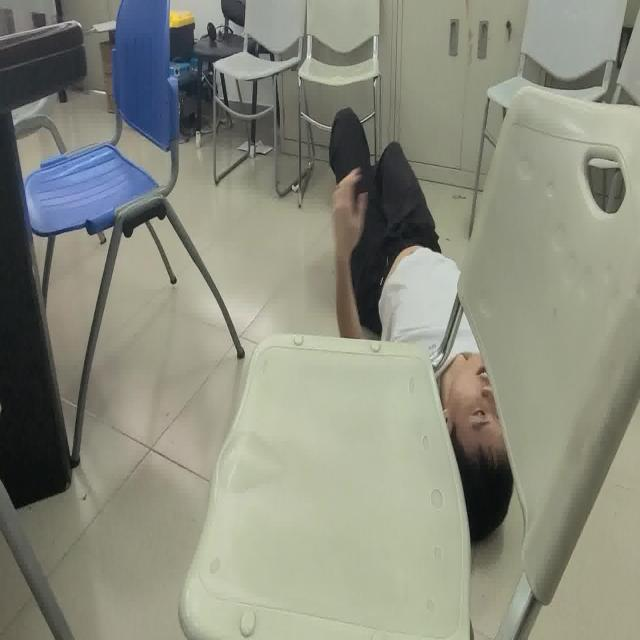Fall-Detected: (327, 112, 520, 543)
